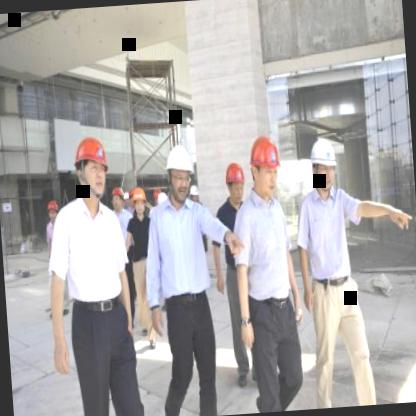helmet: (70, 134, 113, 202), (246, 133, 284, 201), (162, 143, 198, 201), (307, 136, 341, 196), (222, 160, 248, 204), (132, 182, 150, 220), (110, 182, 126, 213), (46, 198, 60, 224)
